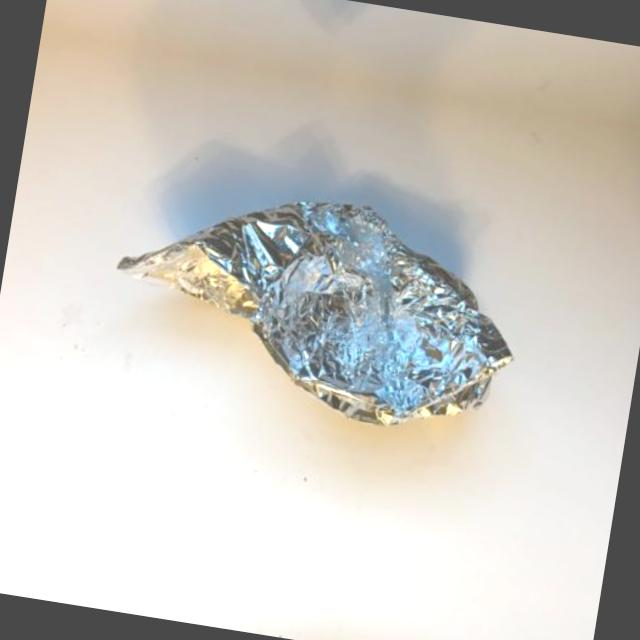Metal: (105, 181, 544, 479)
